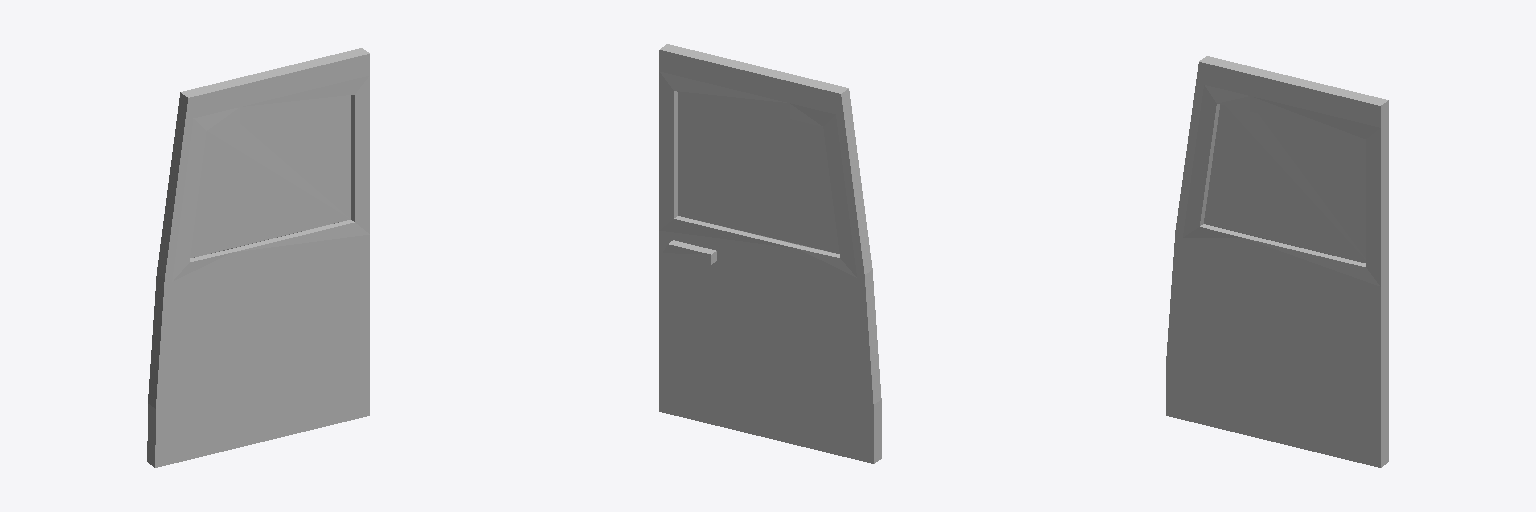
The model's file is Van_Door_B_R.obj.
The picture shows the model from 3 angles: view 1: azimuth 30°, elevation 25°; view 2: azimuth 150°, elevation 25°; view 3: azimuth 330°, elevation 25°; orthographic projection.
Visible parts, largest first — view 1: Van_Door_B_R; view 2: Van_Door_B_R; view 3: Van_Door_B_R.
Part boxes in pixels (left/top/right/bottom): Van_Door_B_R: left=147, top=48, right=369, bottom=467; Van_Door_B_R: left=659, top=44, right=881, bottom=463; Van_Door_B_R: left=1166, top=56, right=1388, bottom=467.
Bounding box in the file's own units: 2.12 × 3.42 × 0.2364.